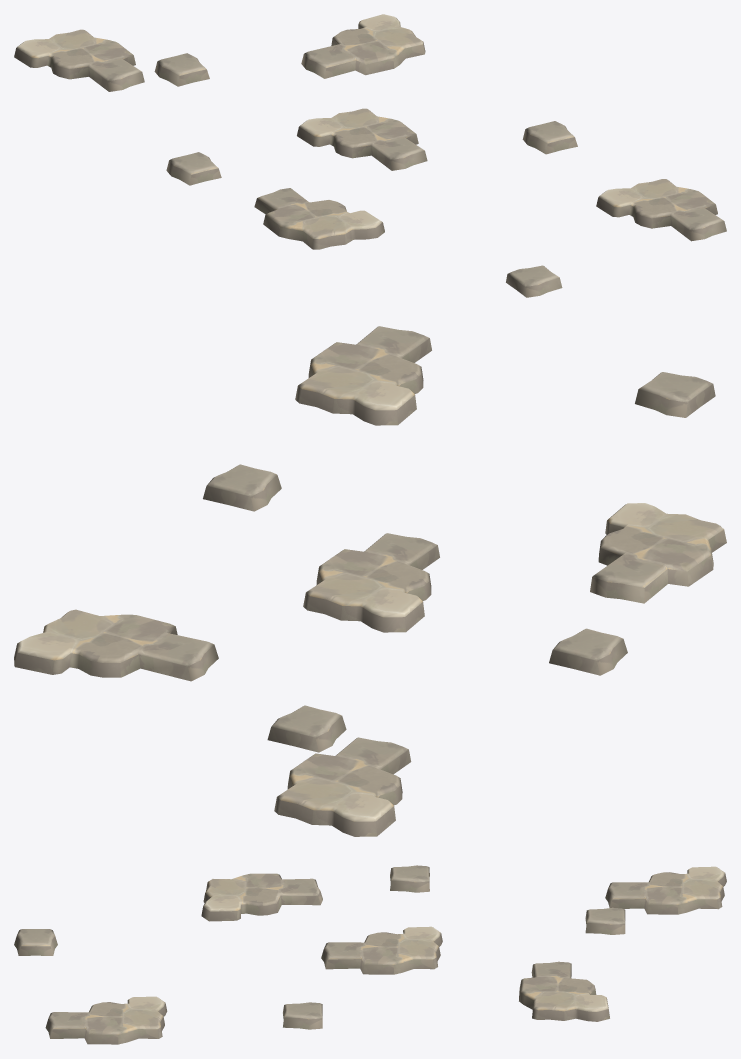
Rendered from SM_floortiles_small_02.fbx.
The picture shows the model from 3 angles, top to bottom: view 1: azimuth 30°, elevation 25°; view 2: azimuth 150°, elevation 25°; view 3: azimuth 270°, elevation 25°; orthographic projection. The views are drawn at different scales.
Parts seen in each view (by area): view 1: Plane286; view 2: Plane286; view 3: Plane286.
Part boxes in pixels (box(x1,y1,x2,y2)): Plane286: box(14, 14, 726, 297); Plane286: box(14, 326, 726, 836); Plane286: box(14, 865, 726, 1044).
Size of the model in its own units: 72.1 by 2.24 by 128.
